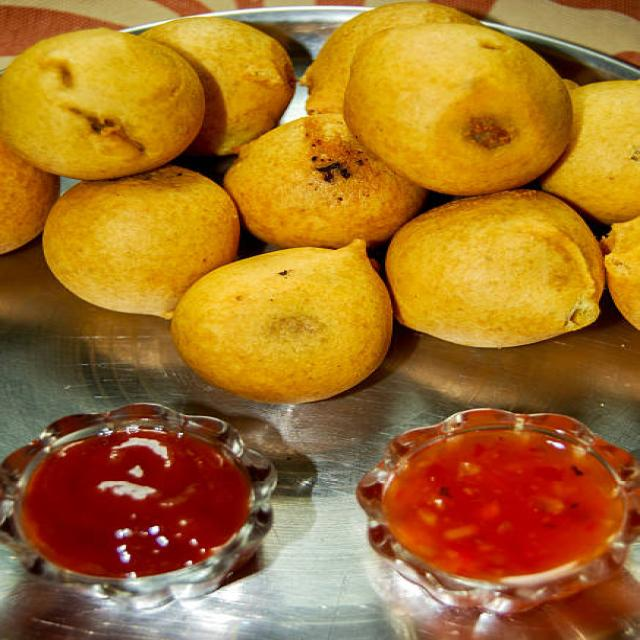BONDA: (2, 6, 639, 404)
RED CHUTNEY: (376, 399, 640, 593), (13, 421, 253, 597)
